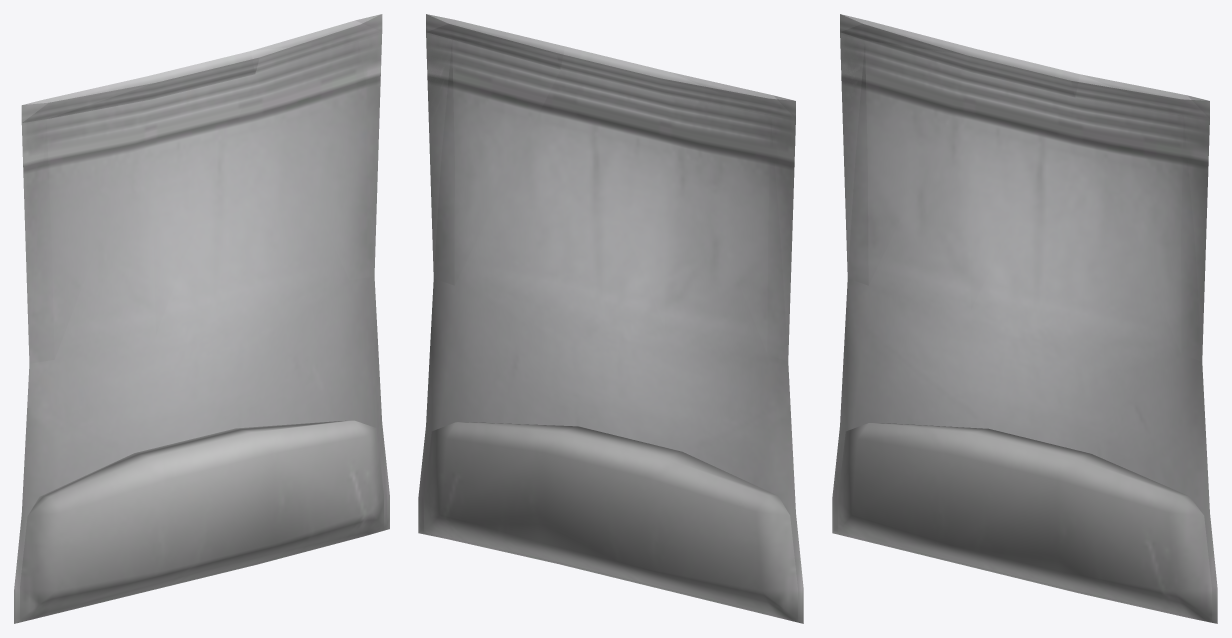
The model's file is drug_baggie.glb.
3 views of the same model, side by side, from view 1: azimuth 30°, elevation 25°; view 2: azimuth 150°, elevation 25°; view 3: azimuth 330°, elevation 25° (orthographic).
Visible parts, largest first — view 1: Coke Baggie; view 2: Coke Baggie; view 3: Coke Baggie.
Part boxes in pixels (x1,y1,x2,y2): Coke Baggie: (14,14,389,623); Coke Baggie: (418,14,803,623); Coke Baggie: (832,14,1217,623).
Size of the model in its own units: 0.0967 by 0.126 by 0.0176.
2 materials, 2 textured.
